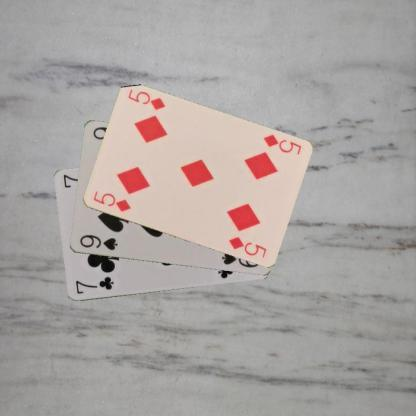5d: (90, 188, 132, 214), (260, 132, 302, 156)
7c: (73, 274, 114, 296)
9s: (77, 232, 118, 252)
